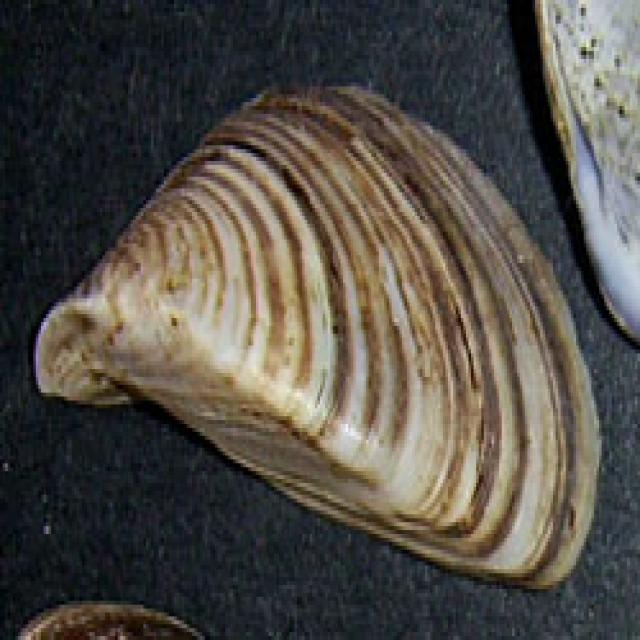Dreissena_polymorpha: (30, 87, 601, 592), (532, 0, 640, 342)
